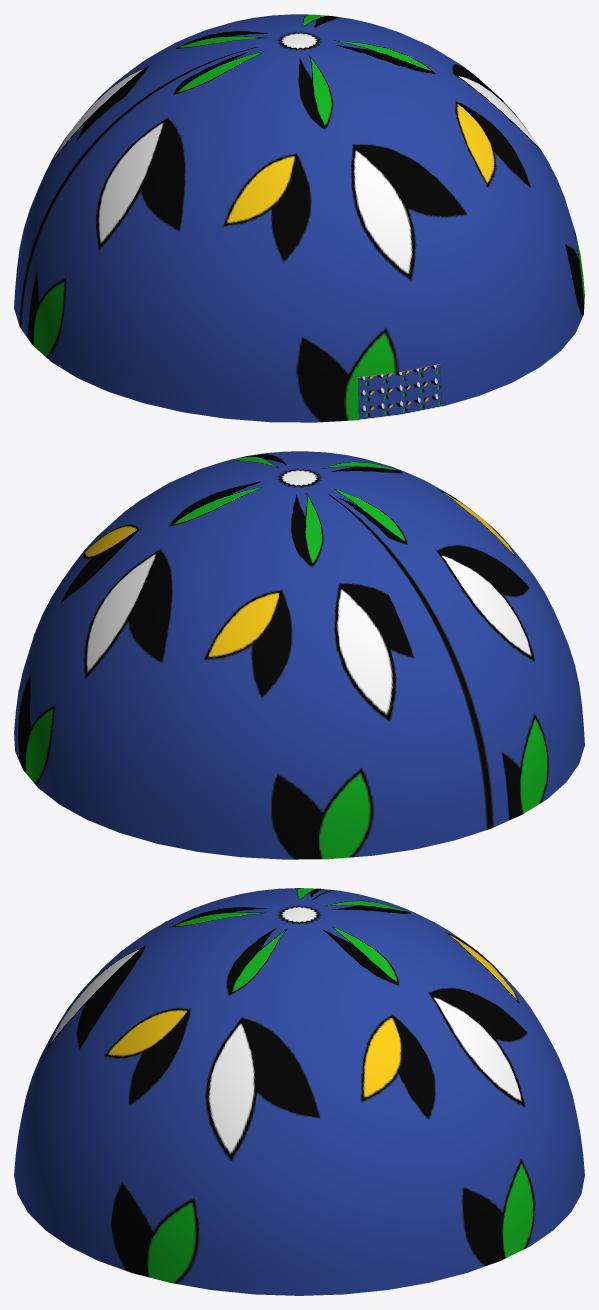
File: baby.obj
The picture shows the model from 3 angles, top to bottom: view 1: azimuth 30°, elevation 25°; view 2: azimuth 150°, elevation 25°; view 3: azimuth 270°, elevation 25°; orthographic projection.
Visible parts, largest first — view 1: pSphere5; view 2: pSphere5; view 3: pSphere5.
Part boxes in pixels (<box>): pSphere5: <box>14,14,584,422</box>; pSphere5: <box>14,451,584,859</box>; pSphere5: <box>14,888,584,1295</box>.
Bounding box in the file's own units: 2.17 × 1.1 × 2.17.
Materials: 1 (1 with a texture image).
